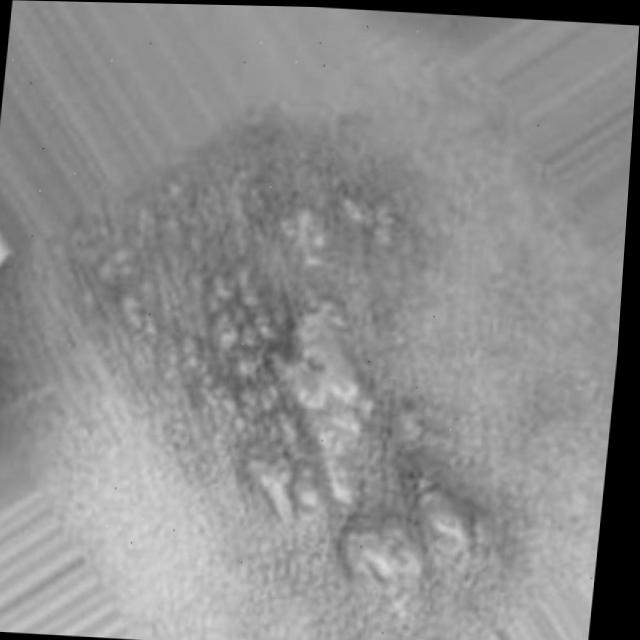Shingles: (115, 202, 513, 589)
